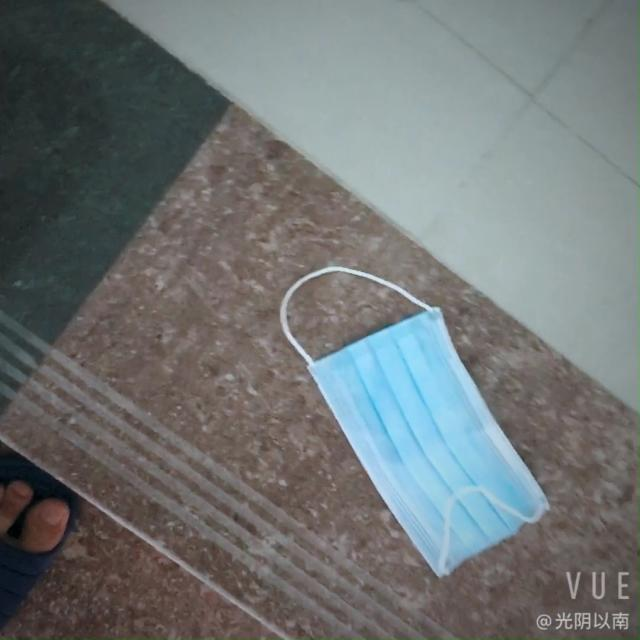non-organic waste: (313, 306, 537, 572)
